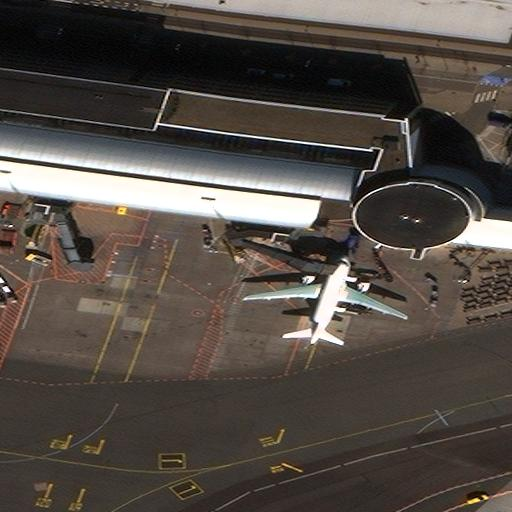Medium Civil Transport: (248, 255, 407, 345)
